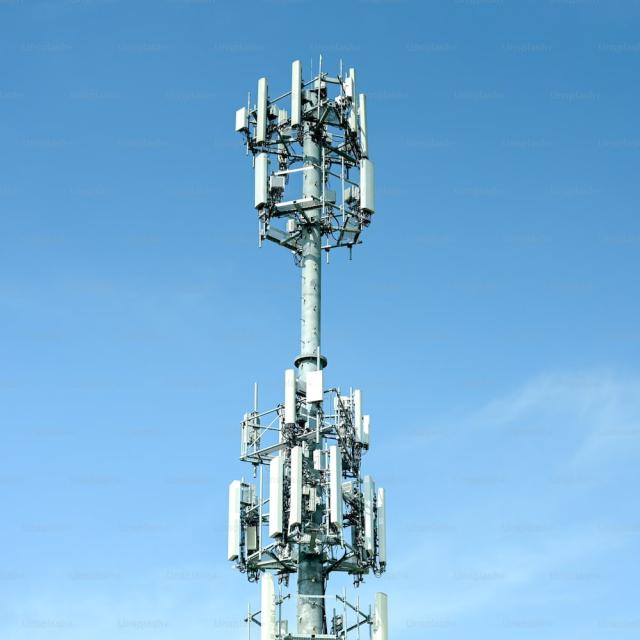transmission tower: (142, 55, 492, 619)
